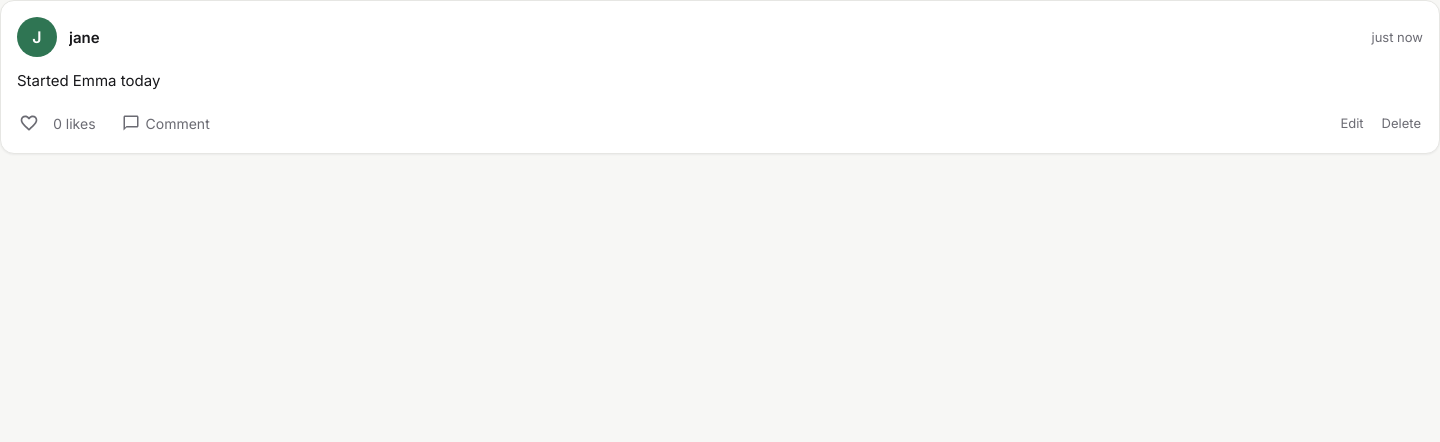
Scenario: your own post › a failed edit keeps the form with the error
Click the button with aria-label "Edit post": (1352, 123) [1332,111,1372,135]
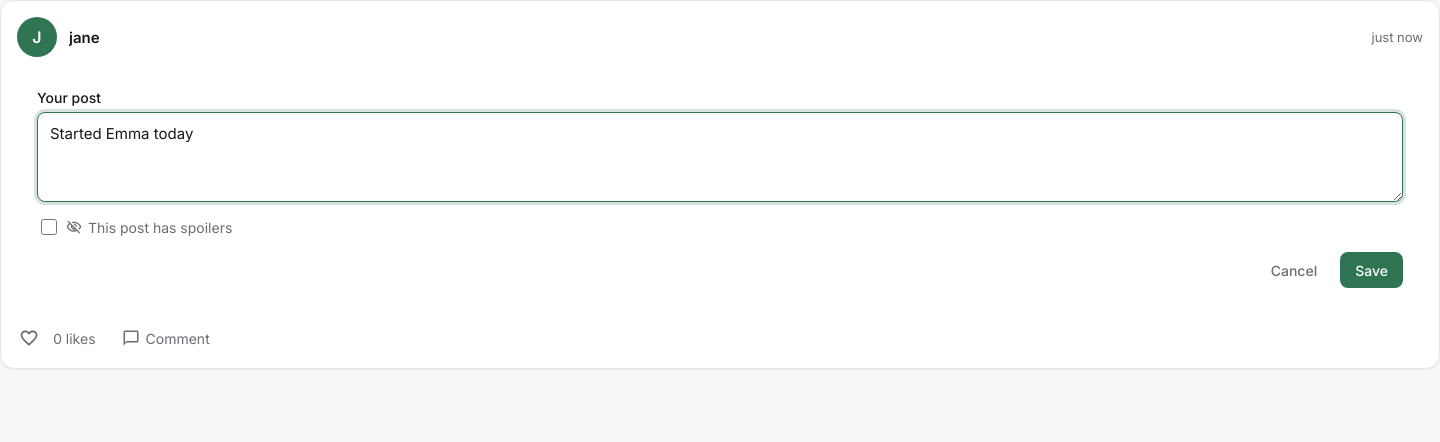
Click the button "Save": (1372, 270) [1340,252,1403,288]
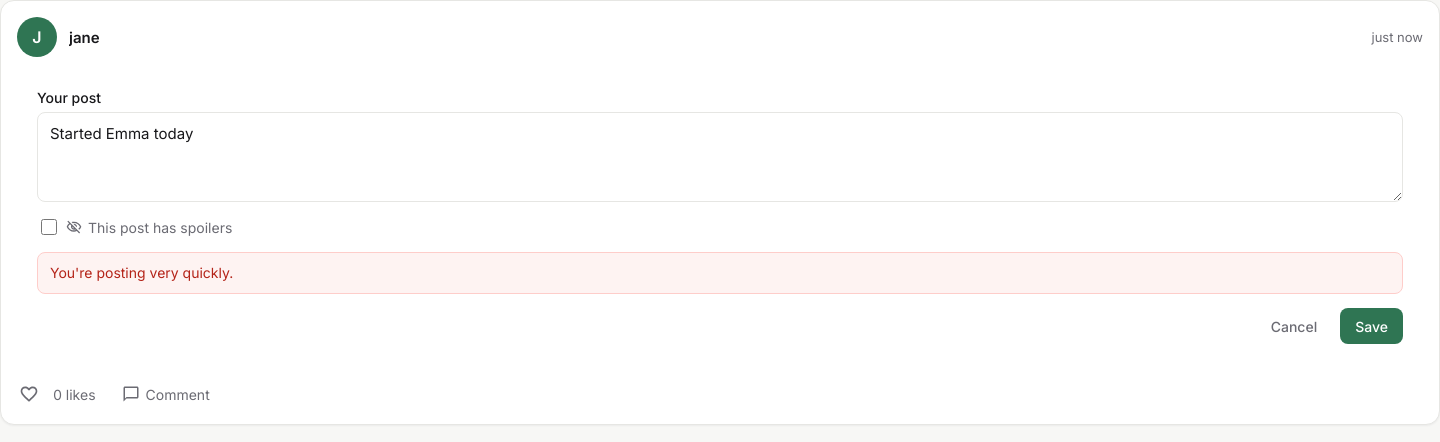
Expected: the form named "Edit post" is shown
Expected: the message shows "posting very quickly", [50,264,233,281]
